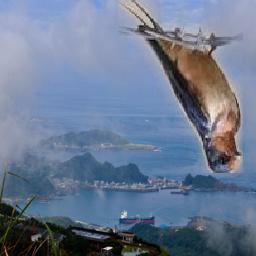Swallow: (119, 1, 244, 174)
